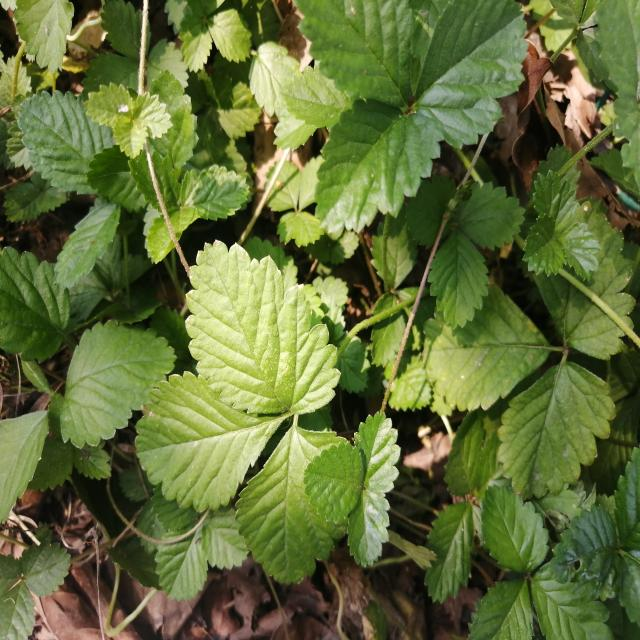Mock_strawberry: (154, 237, 406, 568)
